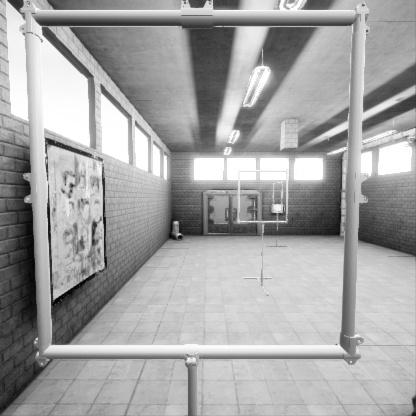gate: (53, 90, 363, 391), (239, 196, 291, 247), (272, 205, 282, 235)
